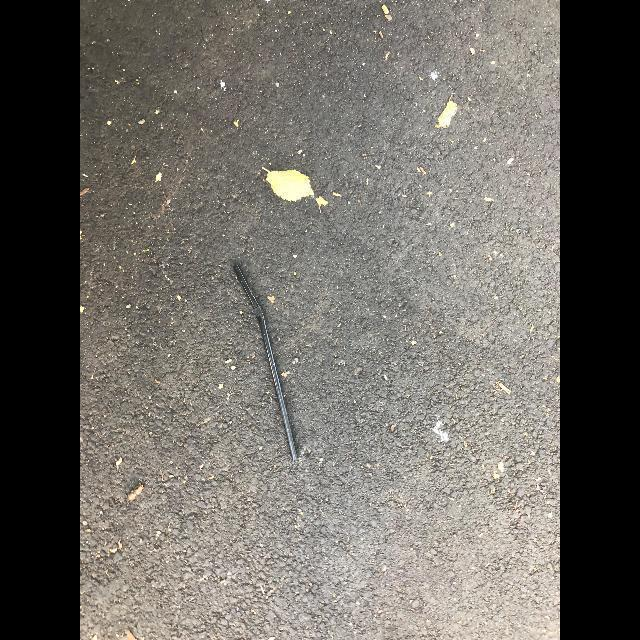Plastic: (232, 264, 298, 460)
